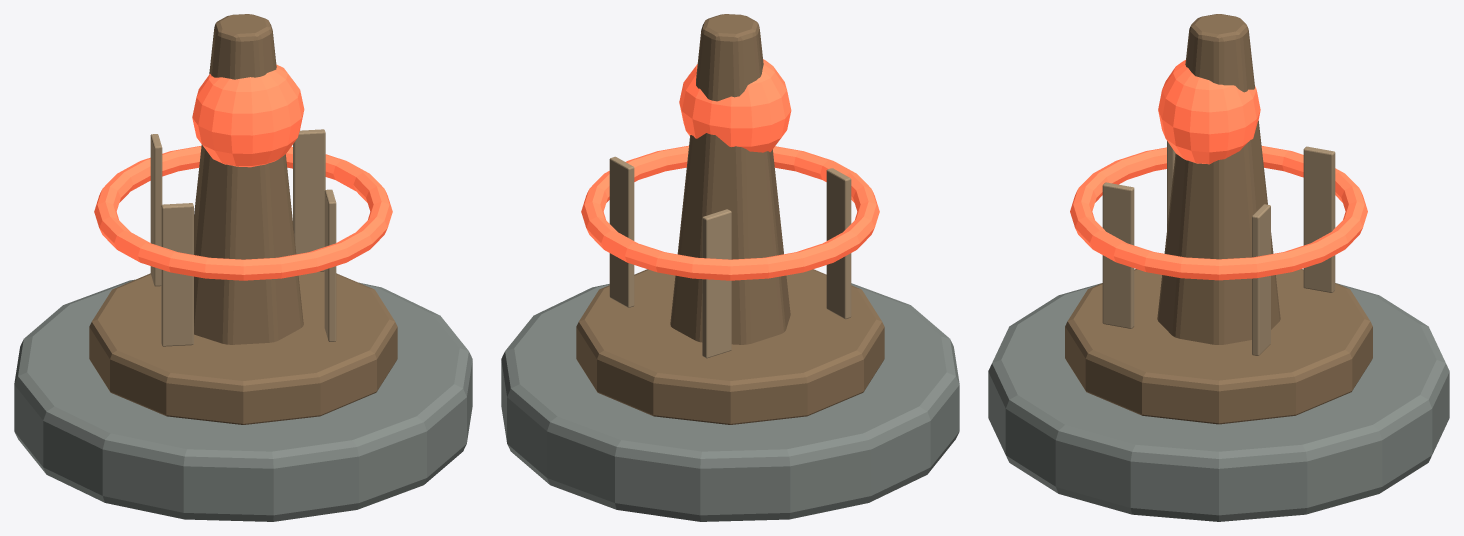
File: prop_formation_anchor_qinglan_a.glb
The picture shows the model from 3 angles, left to right: view 1: azimuth 30°, elevation 25°; view 2: azimuth 150°, elevation 25°; view 3: azimuth 270°, elevation 25°; orthographic projection.
Parts seen in each view (by area): view 1: anchor_stone_base, anchor_copper_socket, anchor_spike, anchor_control_ring, anchor_cinnabar_core, anchor_talisman_strip_2, anchor_talisman_strip_0, anchor_talisman_strip_3, anchor_talisman_strip_1; view 2: anchor_stone_base, anchor_copper_socket, anchor_spike, anchor_control_ring, anchor_cinnabar_core, anchor_talisman_strip_1, anchor_talisman_strip_0, anchor_talisman_strip_2; view 3: anchor_stone_base, anchor_copper_socket, anchor_spike, anchor_control_ring, anchor_cinnabar_core, anchor_talisman_strip_3, anchor_talisman_strip_1, anchor_talisman_strip_0.
Part boxes in pixels (x1,y1,x2,y2): anchor_stone_base: (14,279,472,521); anchor_copper_socket: (89,271,397,424); anchor_spike: (194,14,303,344); anchor_control_ring: (94,145,392,280); anchor_cinnabar_core: (192,64,304,167); anchor_talisman_strip_2: (161,203,193,346); anchor_talisman_strip_0: (293,129,325,271); anchor_talisman_strip_3: (324,189,336,341); anchor_talisman_strip_1: (150,134,162,286); anchor_stone_base: (501,283,959,521); anchor_copper_socket: (576,269,884,424); anchor_spike: (670,14,790,344); anchor_control_ring: (581,145,879,280); anchor_cinnabar_core: (679,59,791,152); anchor_talisman_strip_1: (702,209,731,358); anchor_talisman_strip_0: (609,156,634,307); anchor_talisman_strip_2: (826,168,851,319); anchor_stone_base: (988,283,1449,521); anchor_copper_socket: (1065,269,1372,424); anchor_spike: (1157,14,1280,344); anchor_control_ring: (1070,146,1367,280); anchor_cinnabar_core: (1158,60,1260,164); anchor_talisman_strip_3: (1102,182,1134,328); anchor_talisman_strip_1: (1303,146,1335,292); anchor_talisman_strip_0: (1252,204,1270,355).
Bounding box in the file's own units: 1.44 × 1.39 × 1.44.
